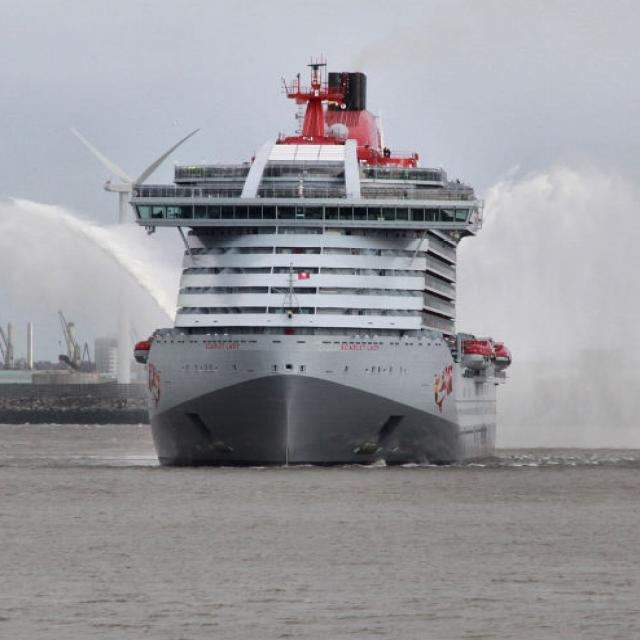cruises: (119, 59, 529, 475)
